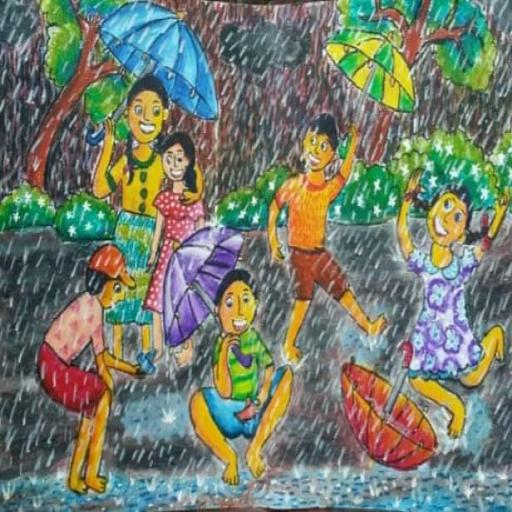person: (394, 158, 512, 442), (26, 242, 139, 498), (265, 110, 381, 356), (89, 76, 172, 374), (184, 267, 290, 498), (140, 132, 212, 364)
